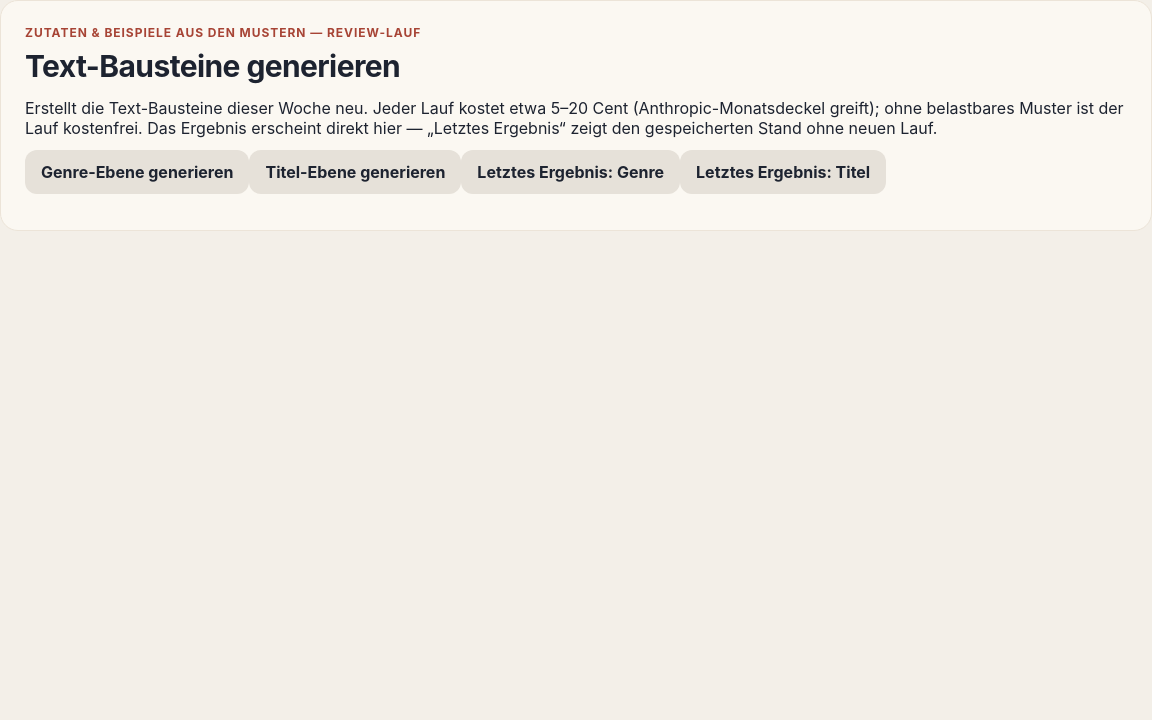
it: BriefingSection › zeigt Zutaten-Bausteine mit Studio-Zitat und Beispielen (Format 31.08.)
What coordinates should you click on to do the following:
click the button "Letztes Ergebnis: Genre"
I would click on:
 (571, 172)
Its box is [461,150,680,194].
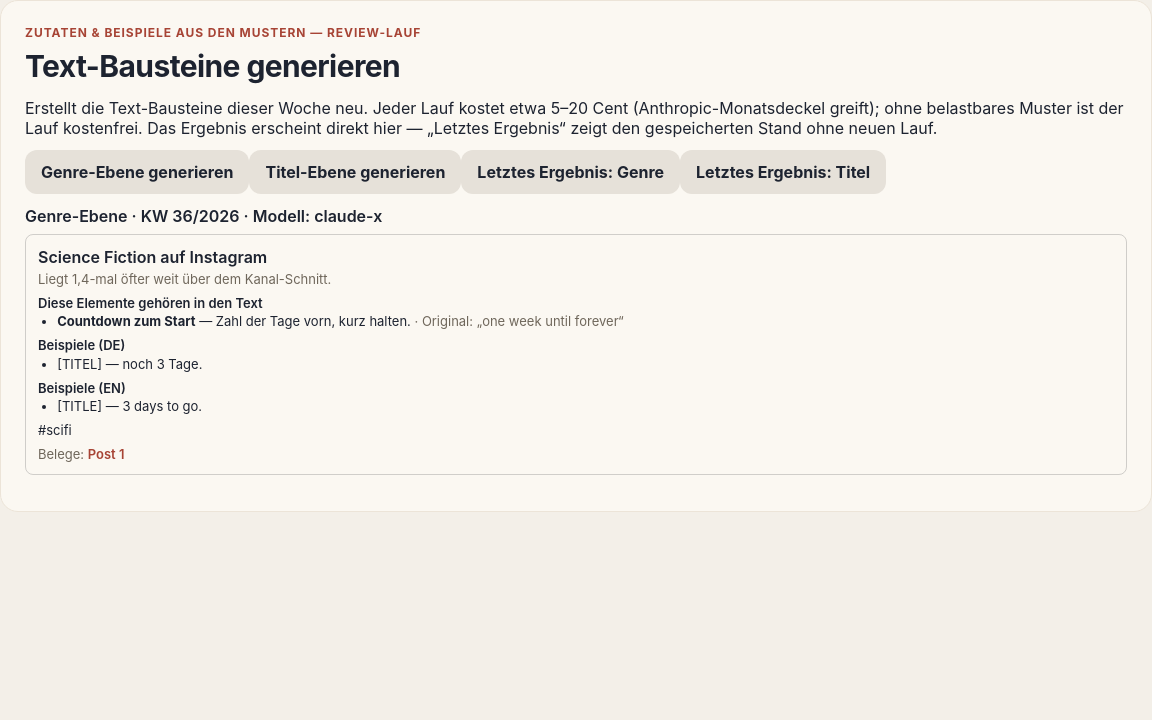
Check: the text "Science Fiction auf Instagram" is shown, box [38,247,267,267]
Check: the text "Diese Elemente gehören in den Text" is shown, box [38,295,263,311]
Check: the text "Countdown zum Start" is shown, box [57,313,196,329]
